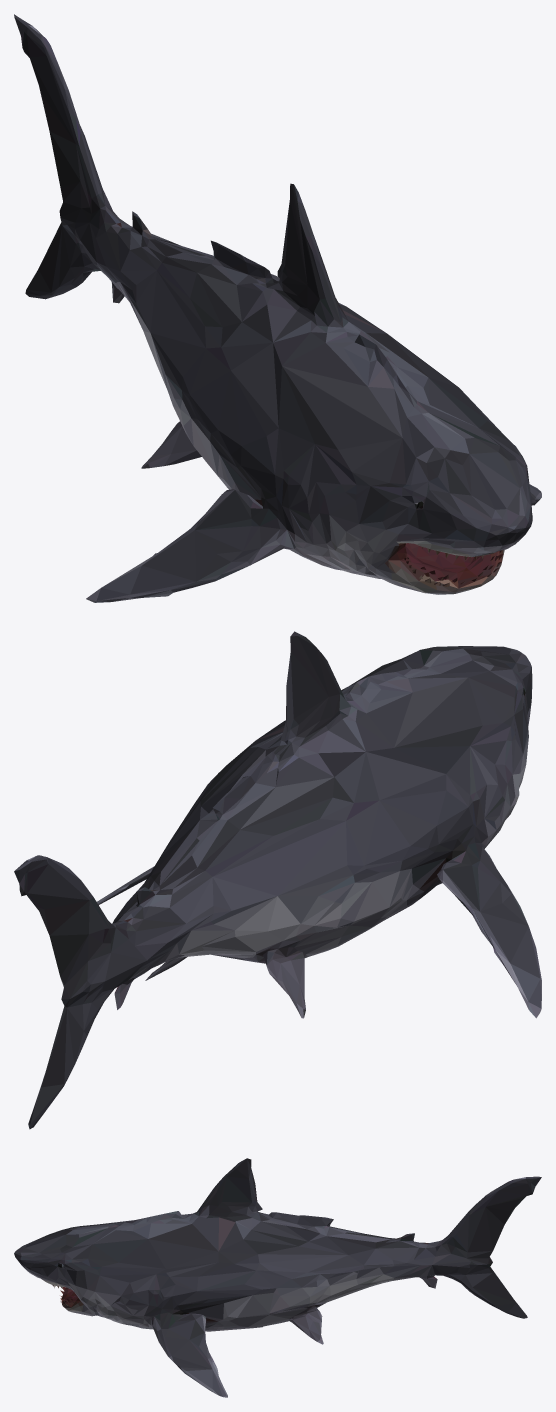
File: shaark.fbx
3 views of the same model, one above another, from view 1: azimuth 30°, elevation 25°; view 2: azimuth 150°, elevation 25°; view 3: azimuth 270°, elevation 25° (orthographic). The views are drawn at different scales.
Visible parts, largest first — view 1: model_0:Mesh; view 2: model_0:Mesh; view 3: model_0:Mesh.
Part boxes in pixels (<box>): model_0:Mesh: <box>14,14,541,602</box>; model_0:Mesh: <box>14,631,541,1129</box>; model_0:Mesh: <box>14,1158,541,1397</box>.
Bounding box in the file's own units: 713 × 526 × 1380.
Materials: 1 (1 with a texture image).
